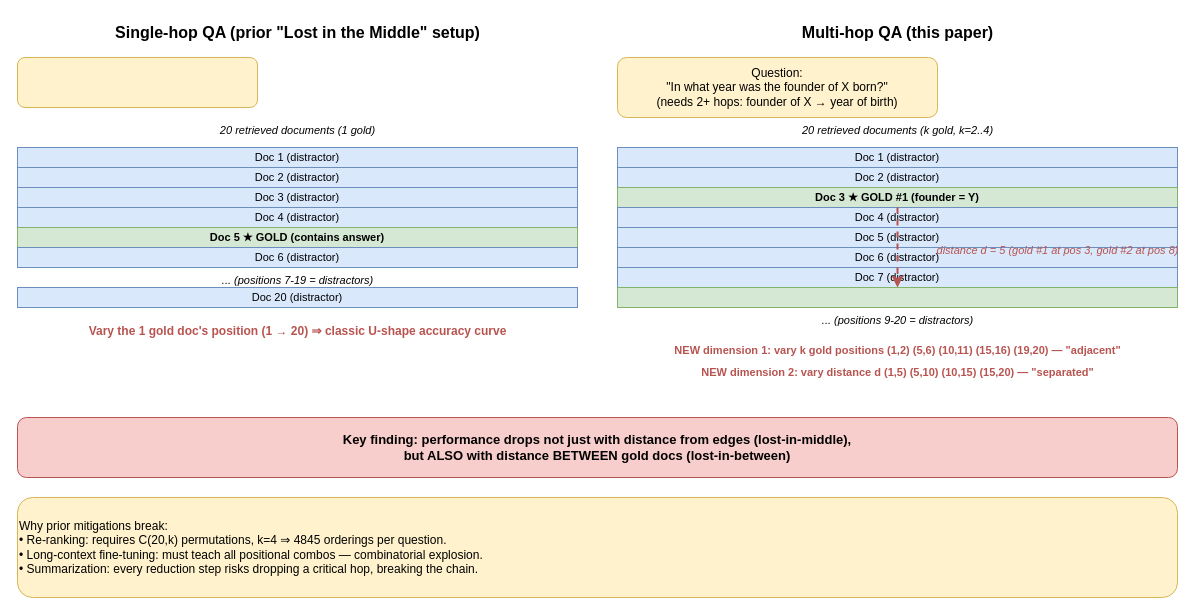
Some shapes in this 1196 by 615 pixel diagram are drawn without their labels. Each missing label, with the centre of its shape:
Doc 8 ★ GOLD #2 (Y was born in 1923): point 897,297
Question: "What year was X founded?": point 137,82
